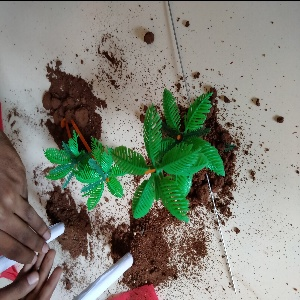plant: (123, 90, 223, 224), (53, 118, 121, 205)
